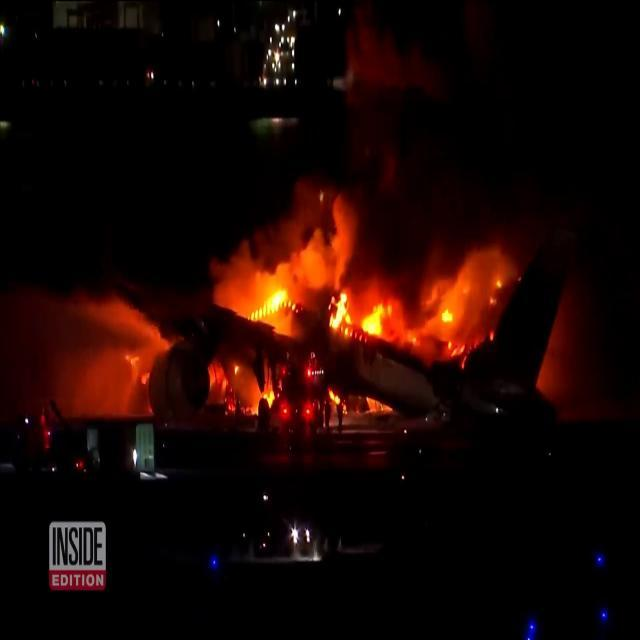Fire: (326, 282, 466, 356), (250, 278, 296, 330)
Smoke: (238, 175, 394, 292)
